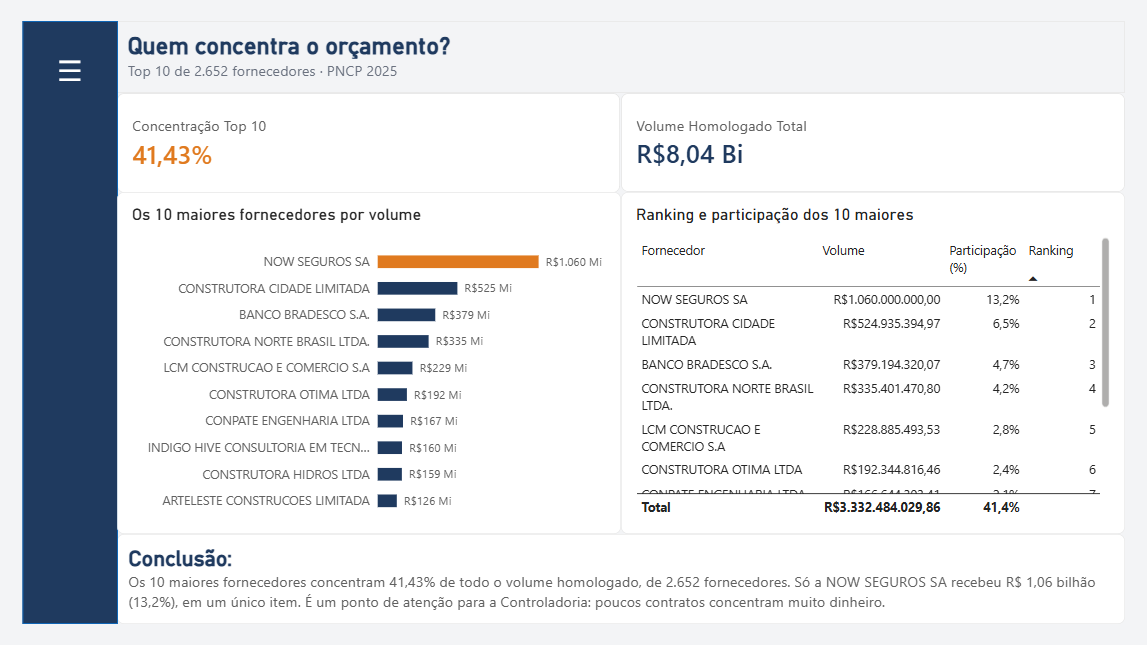

The dashboard page shown, as its layout file describes it:
{"tool":"powerbi","page":{"name":"2 Fornecedores","canvas":[1280,720],"ordinal":2},"visuals":[{"type":"textbox","title":"Quem concentra o orçamento? ","box":[134,24,1120,80],"z":0},{"type":"cardVisual","fields":{"Data":["_Medidas.Concentracao Top 10 Pct"]},"box":[133.9,103.2,559.7,111.3],"z":1000},{"type":"cardVisual","fields":{"Data":["_Medidas.Volume Homologado"]},"box":[694,104,560,110],"z":2000},{"type":"textbox","title":"  Conclusão:","box":[134,594,1120,100],"z":3000},{"type":"shape","box":[28,24,106,670],"z":4000},{"type":"barChart","title":"Os 10 maiores fornecedores por volume","fields":{"Category":["dim_fornecedor.nome_fornecedor"],"Y":["_Medidas.Volume Homologado"]},"box":[134,214,560,380],"z":5000},{"type":"tableEx","title":"Ranking e participação dos 10 maiores","fields":{"Values":["dim_fornecedor.nome_fornecedor","_Medidas.Volume Homologado","_Medidas.Participacao Fornecedor Pct","_Medidas.Ranking Fornecedor"]},"box":[694,214,560,380],"z":6000},{"type":"actionButton","title":"Botão menu","box":[27.7,24.6,104.6,104.6],"z":7000}]}

Visuals, with their boxes in screenshot pixels (x1, y1, x2, y2), scaled from the page's 1280x720 canvas onto the 1147x645 screenshot:
"Quem concentra o orçamento? " textbox: bbox=[120, 22, 1124, 93]
cardVisual - _Medidas.Concentracao Top 10 Pct: bbox=[120, 92, 622, 192]
cardVisual - _Medidas.Volume Homologado: bbox=[622, 93, 1124, 192]
"  Conclusão:" textbox: bbox=[120, 532, 1124, 622]
shape: bbox=[25, 22, 120, 622]
"Os 10 maiores fornecedores por volume" barChart: bbox=[120, 192, 622, 532]
"Ranking e participação dos 10 maiores" tableEx: bbox=[622, 192, 1124, 532]
"Botão menu" actionButton: bbox=[25, 22, 119, 116]
